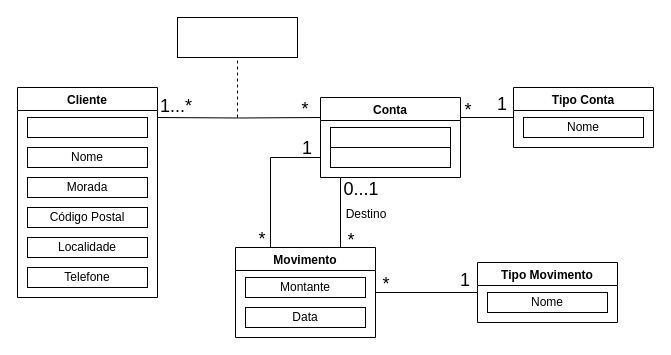
Some shapes in this 671 by 355 pixel diagram are drawn without their labels. Here are the shapes that lost their labels. From the top down, the centre of each, then its label:
At pixel 237 37: "Ordem Titular".
At pixel 87 127: "Título".
At pixel 390 137: "Nº de Conta PK".
At pixel 390 157: "Saldo".
